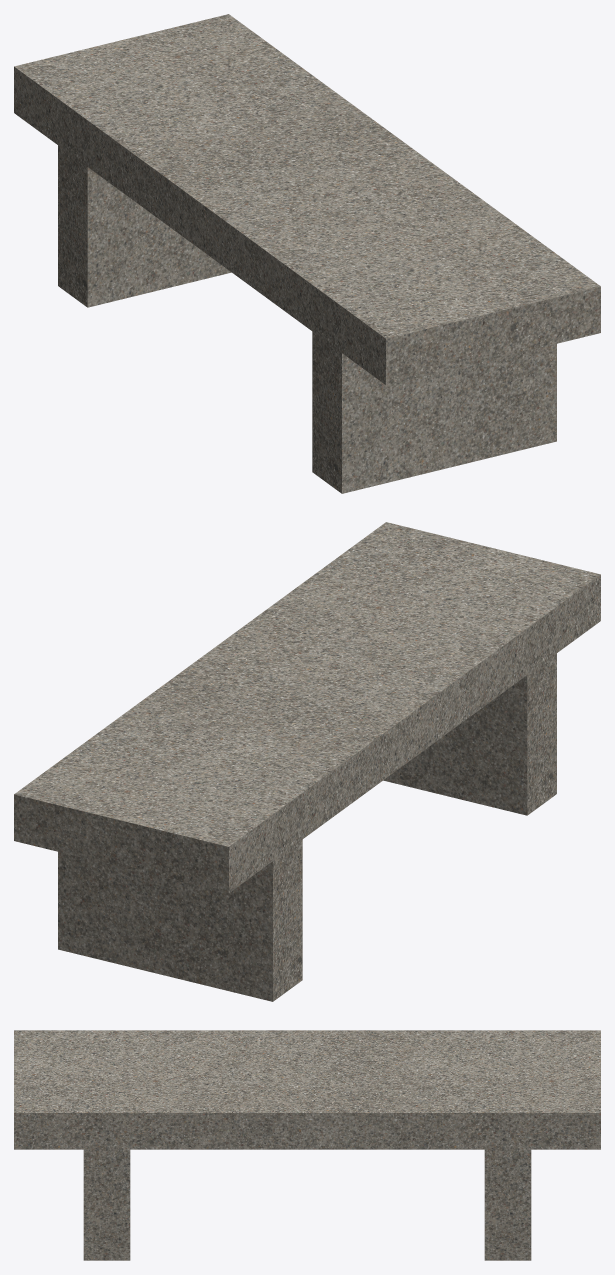
The model's file is Lavicka_Mramor.fbx.
3 renders of one model, top to bottom at view 1: azimuth 30°, elevation 25°; view 2: azimuth 150°, elevation 25°; view 3: azimuth 270°, elevation 25°, orthographic. The views are drawn at different scales.
Visible parts, largest first — view 1: Lavicka_Mramor; view 2: Lavicka_Mramor; view 3: Lavicka_Mramor.
Part boxes in pixels (left/top/right/bottom): Lavicka_Mramor: left=14, top=14, right=600, bottom=493; Lavicka_Mramor: left=14, top=522, right=600, bottom=1001; Lavicka_Mramor: left=14, top=1030, right=600, bottom=1260.
Size of the model in its own units: 60 by 50 by 180.
